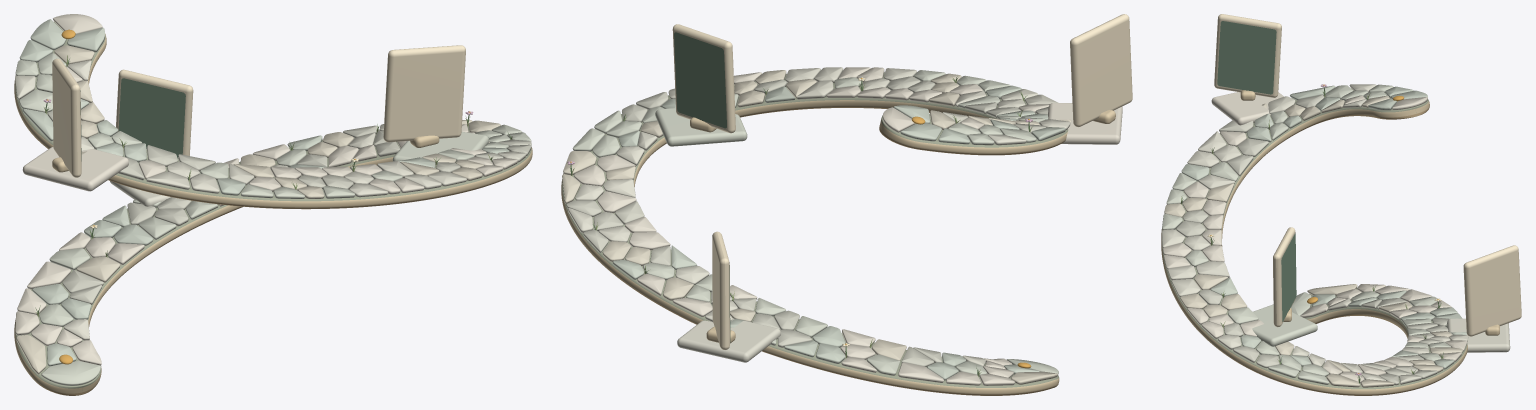
Rendered from clay-journey.glb.
3 renders of one model, left to right at view 1: azimuth 30°, elevation 25°; view 2: azimuth 150°, elevation 25°; view 3: azimuth 270°, elevation 25°, orthographic. The views are drawn at different scales.
Visible parts, largest first — view 1: Journey_One_Continuous_Path, Frame_Approach, PhotoPlane_Walk, Frame_Read, Photo_Platform_Read, Frame_Walk, Photo_Platform_Approach, Paving_Stone_000, Paving_Stone_031, Paving_Stone_072, Paving_Stone_056, Paving_Stone_065 (+25 smaller); view 2: Journey_One_Continuous_Path, Frame_Read, PhotoPlane_Approach, Photo_Platform_Walk, Photo_Platform_Approach, Frame_Walk, Photo_Platform_Read, Frame_Approach, Paving_Stone_056, Paving_Stone_040, Paving_Stone_050, Paving_Stone_064 (+4 smaller); view 3: Journey_One_Continuous_Path, Frame_Walk, PhotoPlane_Read, Photo_Platform_Approach, Photo_Platform_Read, Frame_Read, Photo_Platform_Walk, PhotoPlane_Approach, Frame_Approach, Paving_Stone_053, Paving_Stone_068, Paving_Stone_084 (+17 smaller).
Part boxes in pixels (x1,y1,x2,y2): Journey_One_Continuous_Path: (14, 21, 532, 395); Frame_Approach: (383, 45, 465, 142); PhotoPlane_Walk: (118, 78, 185, 158); Frame_Read: (52, 58, 81, 177); Photo_Platform_Read: (22, 147, 128, 191); Frame_Walk: (116, 69, 193, 155); Photo_Platform_Approach: (392, 131, 488, 161); Paving_Stone_000: (41, 361, 101, 385); Paving_Stone_031: (16, 335, 46, 374); Paving_Stone_072: (76, 256, 120, 282); Paving_Stone_056: (27, 261, 70, 289); Paving_Stone_065: (30, 19, 66, 50); Journey_One_Continuous_Path: (561, 72, 1068, 395); Frame_Read: (1070, 14, 1132, 127); PhotoPlane_Approach: (674, 32, 726, 128); Photo_Platform_Walk: (677, 318, 780, 362); Photo_Platform_Approach: (655, 108, 747, 146); Frame_Walk: (712, 231, 729, 349); Photo_Platform_Read: (1048, 103, 1122, 144); Frame_Approach: (672, 24, 735, 133); Paving_Stone_056: (898, 362, 943, 382); Paving_Stone_040: (629, 232, 670, 250); Paving_Stone_050: (563, 151, 596, 175); Paving_Stone_064: (597, 191, 636, 213); Journey_One_Continuous_Path: (1161, 88, 1467, 395); Frame_Walk: (1463, 245, 1521, 336); PhotoPlane_Read: (1217, 21, 1276, 94); Photo_Platform_Approach: (1252, 304, 1317, 346); Photo_Platform_Read: (1211, 92, 1283, 125); Frame_Read: (1214, 14, 1281, 97); Photo_Platform_Walk: (1447, 318, 1510, 352); PhotoPlane_Approach: (1281, 233, 1296, 321); Frame_Approach: (1273, 227, 1296, 327); Paving_Stone_053: (1196, 261, 1229, 277); Paving_Stone_068: (1237, 138, 1268, 156); Paving_Stone_084: (1171, 279, 1200, 296).
Bounding box in the file's own units: 11.94 × 7.71 × 8.76.
